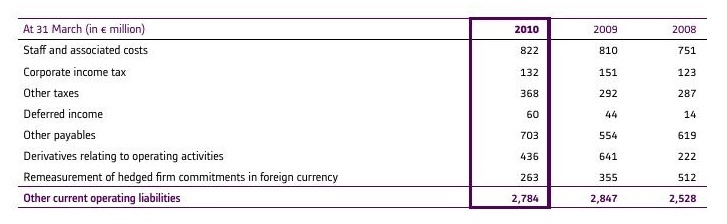table: (0, 0, 727, 224)
